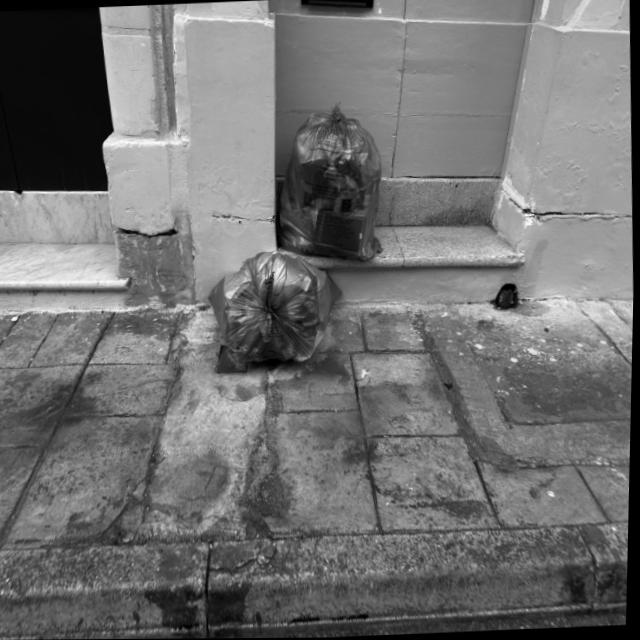Mixed Waste -Black Bags-: (280, 101, 383, 260), (208, 250, 344, 364)
